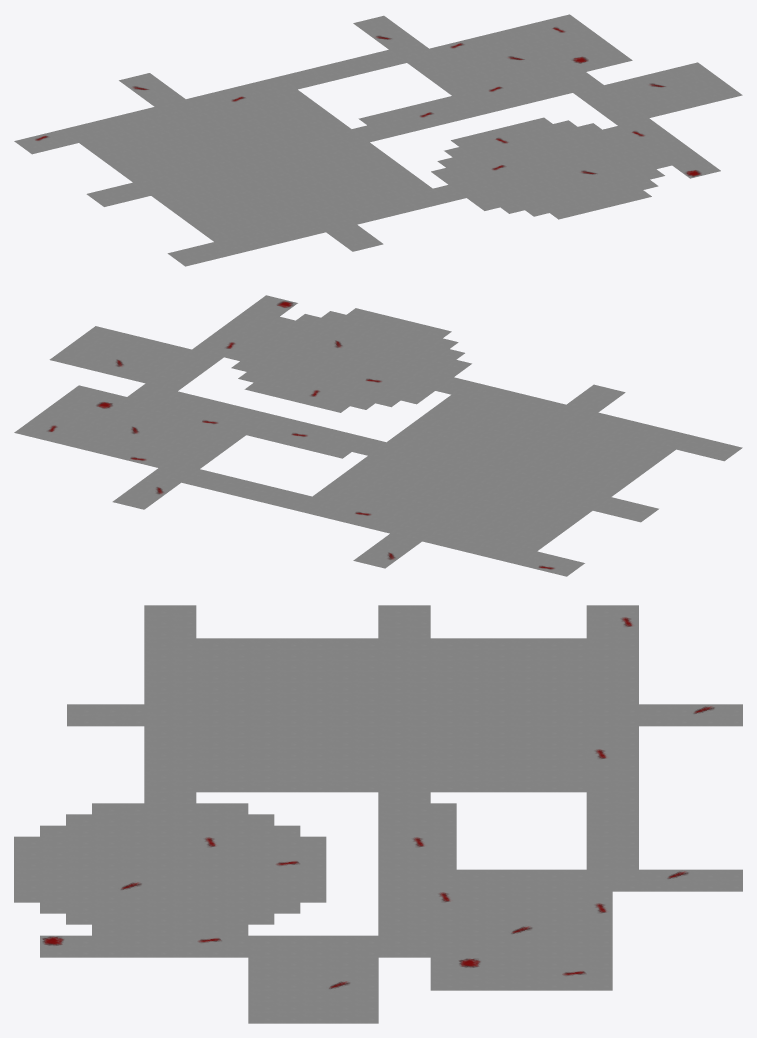
File: Floor.fbx
3 views of the same model, one above another, from view 1: azimuth 30°, elevation 25°; view 2: azimuth 150°, elevation 25°; view 3: azimuth 270°, elevation 25° (orthographic). The views are drawn at different scales.
Visible parts, largest first — view 1: Floor; view 2: Floor; view 3: Floor.
Boxes of the visible parts, x1,y1,x2,y2 form: Floor: (14, 14, 742, 266); Floor: (14, 295, 742, 576); Floor: (14, 605, 742, 1023).
Bounding box in the file's own units: 114 × 1.55e-15 × 84.
Materials: 1 (1 with a texture image).
